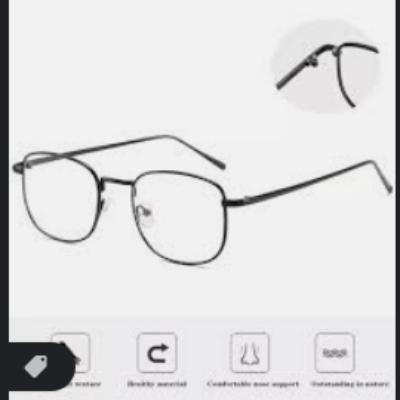glasses: (12, 128, 395, 271)
